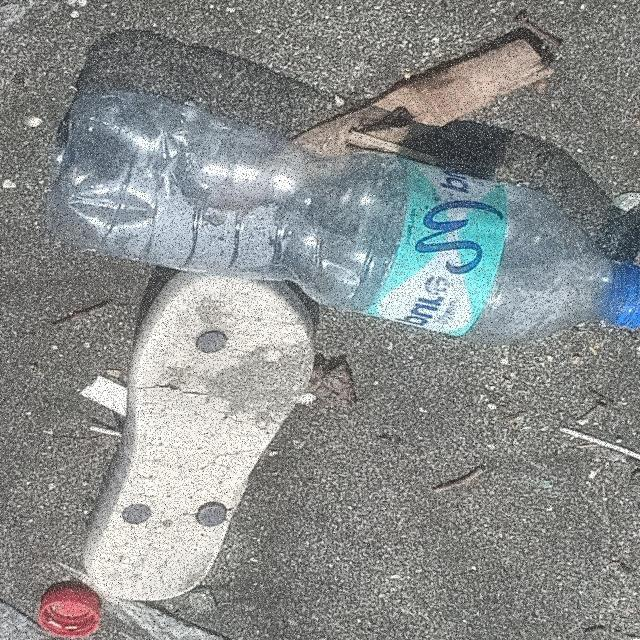plastic_waste: (41, 91, 640, 345), (41, 588, 102, 640)
rubber_waste: (82, 267, 318, 602)
